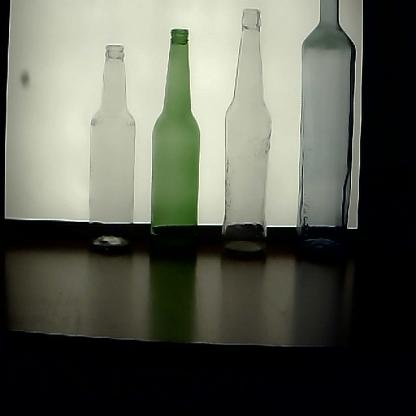Can: (292, 1, 359, 271), (216, 6, 275, 264), (146, 28, 206, 274), (83, 44, 140, 264)
